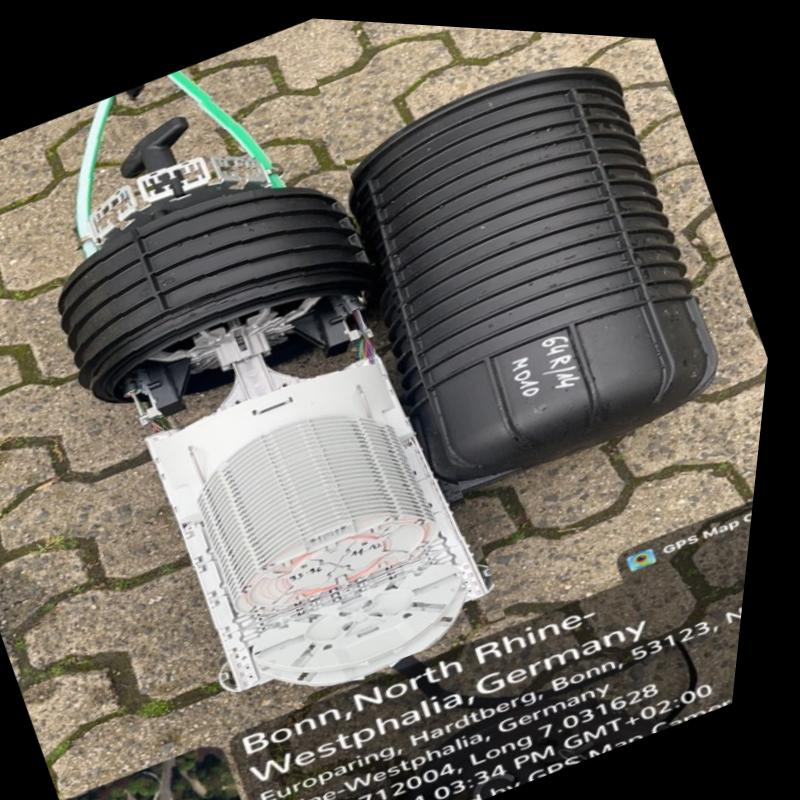NT-Muffen: (0, 37, 564, 749)
